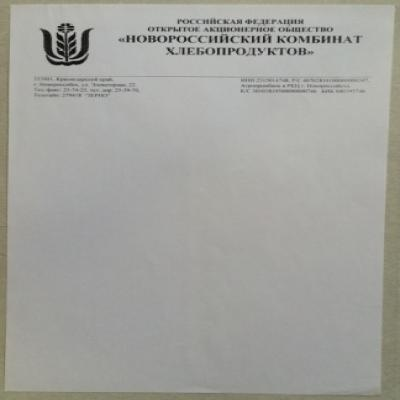document: (9, 3, 387, 393)
